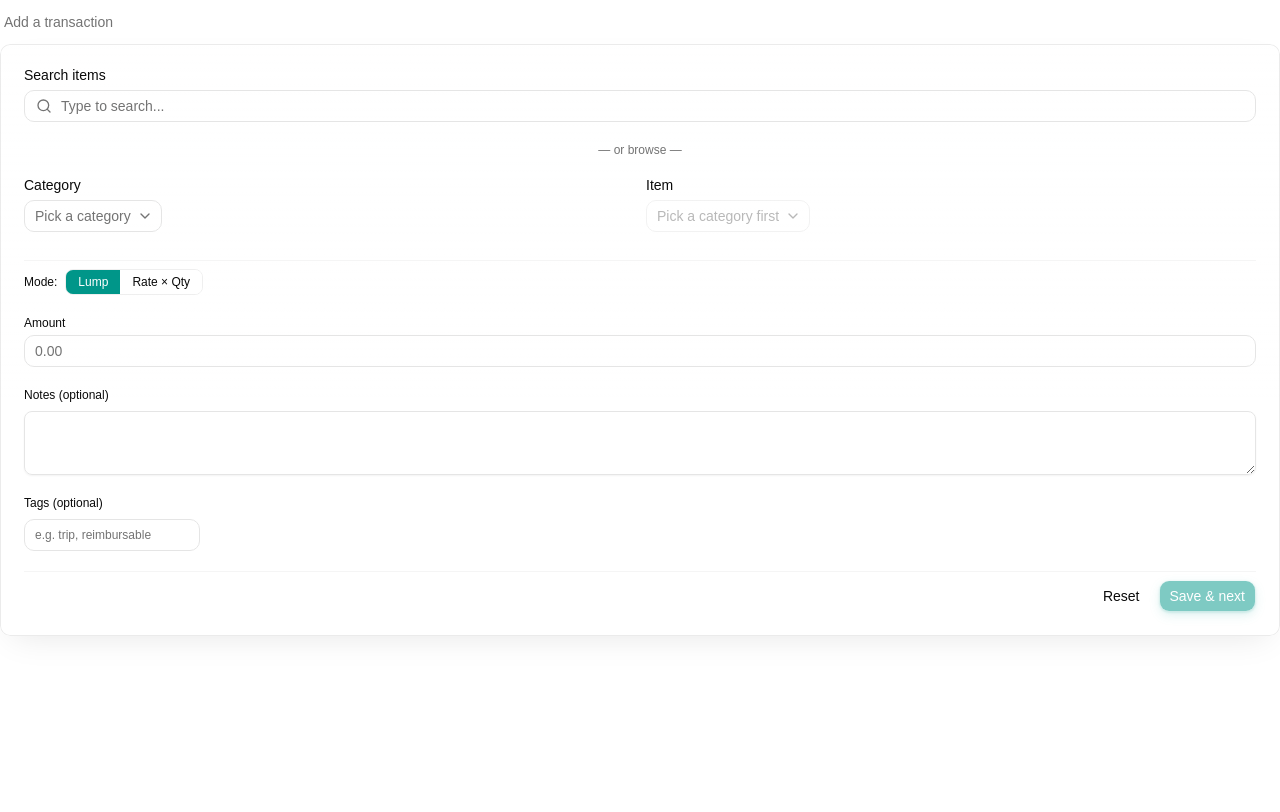
Test: TransactionEntryForm item defaults › prefills Amount with a lump-sum item's default and selects it for overwriting
This screenshot has width=1280, height=812.
Type "Gym" into the field labelled "Search items" at (640, 106), box [24, 90, 1256, 122]
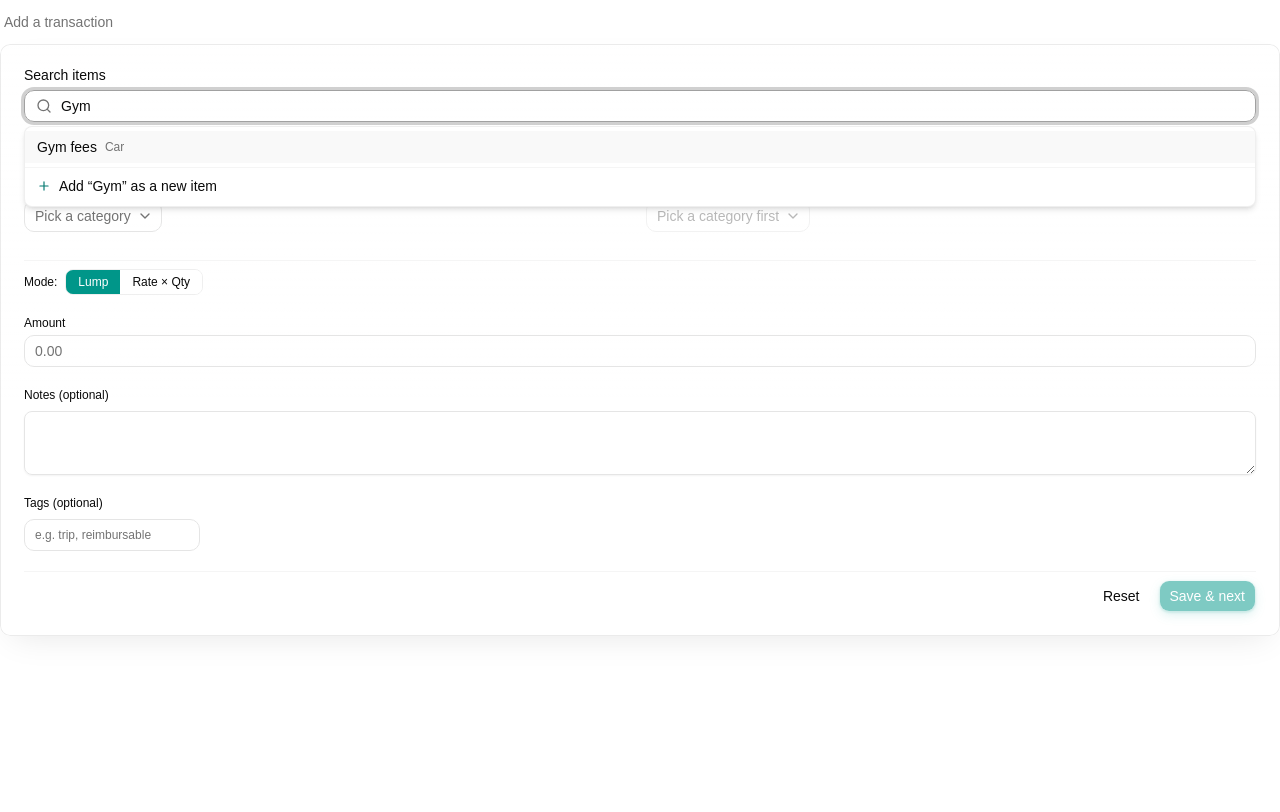
Click the button "Gym fees Car" at (67, 147), box [25, 131, 1255, 163]
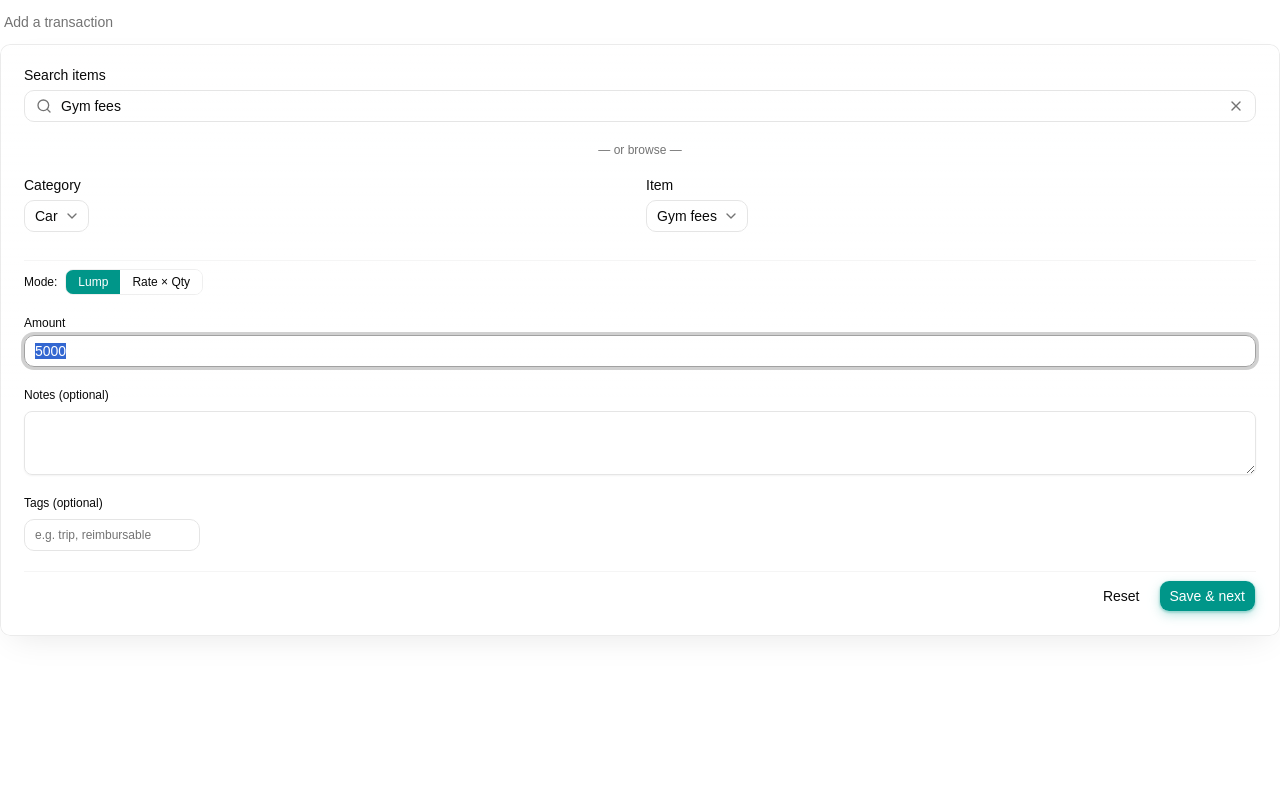
Check: the field labelled "Amount" holds "5000", box [24, 335, 1256, 367]
Type keys "6500"
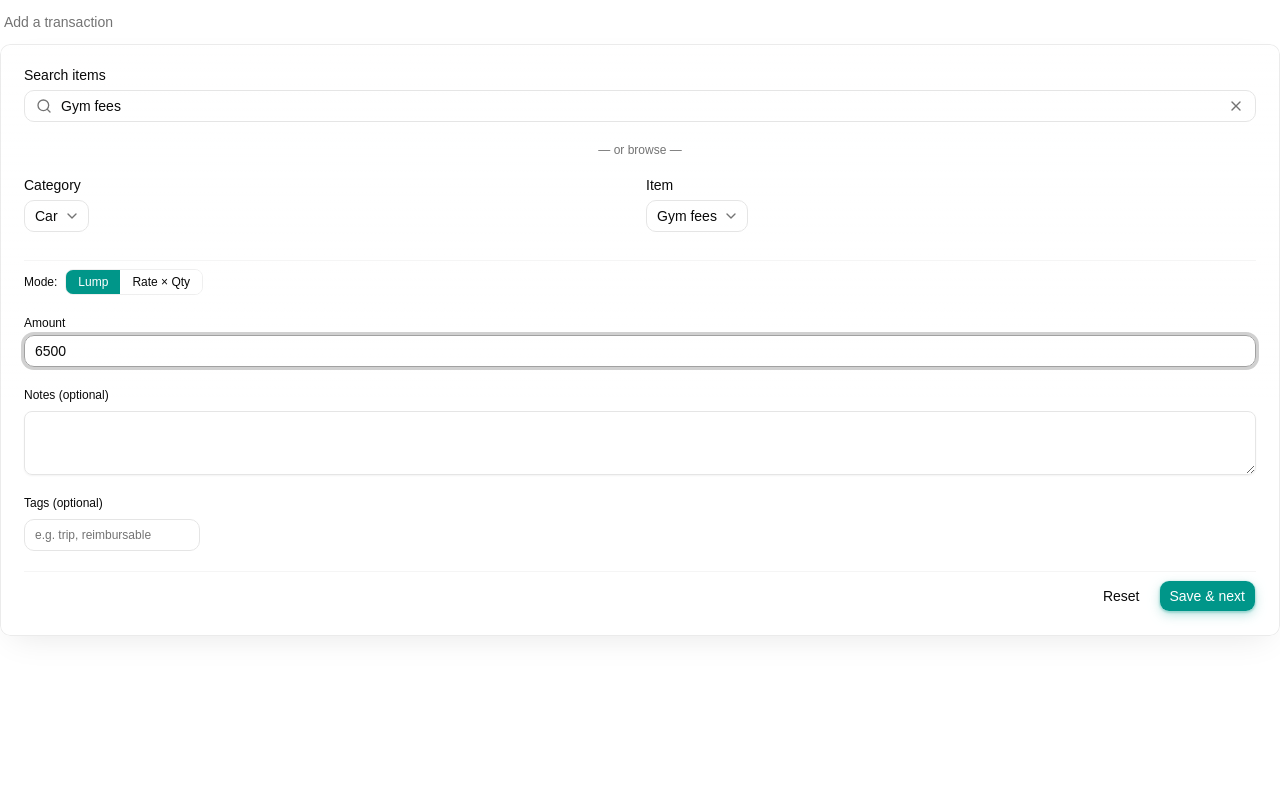
Check: the field labelled "Amount" holds "6500", box [24, 335, 1256, 367]
